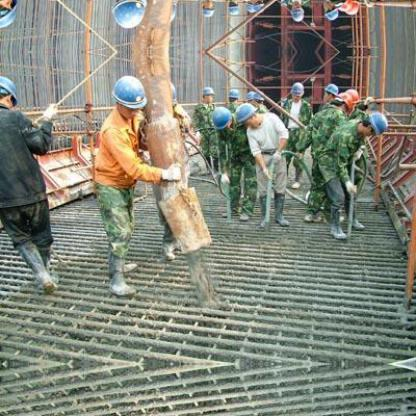helmet: (113, 73, 144, 111), (1, 74, 25, 106), (367, 110, 392, 140), (207, 103, 230, 131), (233, 105, 260, 127), (338, 85, 359, 109), (288, 78, 308, 95), (246, 87, 265, 102), (323, 80, 339, 96), (224, 85, 237, 96), (203, 86, 212, 95)
